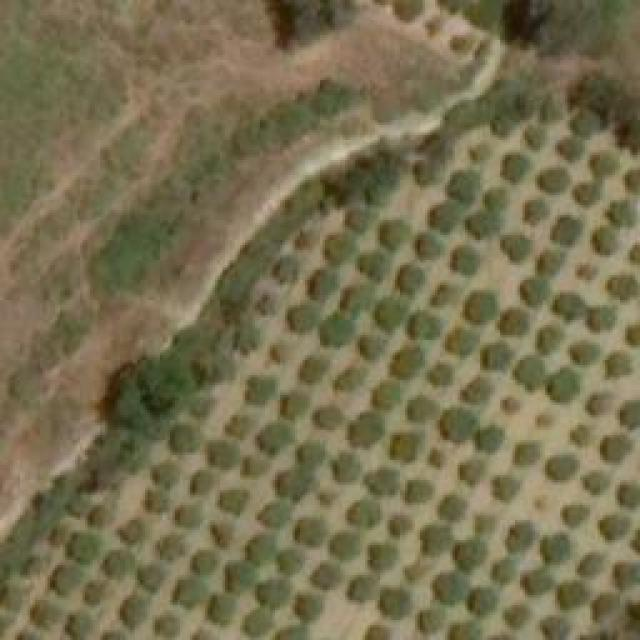Tree: (94, 364, 162, 436), (258, 0, 353, 48), (508, 0, 581, 55), (142, 346, 198, 409), (315, 71, 358, 119), (406, 152, 447, 190), (345, 413, 385, 448), (385, 430, 423, 460), (255, 425, 293, 453), (362, 467, 400, 495), (275, 470, 310, 500), (540, 89, 568, 125), (443, 410, 476, 440), (295, 440, 325, 473), (345, 500, 380, 528), (448, 29, 480, 59), (320, 317, 353, 345), (205, 440, 238, 468), (170, 422, 203, 450), (243, 375, 276, 403), (465, 293, 495, 323), (330, 453, 360, 483), (100, 550, 138, 573), (515, 358, 543, 388), (455, 540, 485, 568), (435, 575, 465, 603), (380, 220, 408, 250), (30, 600, 60, 628), (63, 612, 93, 640), (50, 567, 80, 595), (343, 285, 376, 310), (298, 358, 331, 383), (258, 503, 291, 528), (547, 370, 575, 398), (360, 252, 388, 280), (72, 532, 100, 560), (157, 532, 185, 560), (218, 490, 251, 513), (223, 415, 256, 438), (600, 435, 630, 460), (548, 455, 578, 480), (420, 528, 450, 553), (448, 175, 478, 200), (448, 328, 478, 353), (393, 348, 423, 373), (378, 300, 403, 330), (325, 235, 355, 260), (258, 583, 288, 608), (330, 533, 360, 558), (123, 598, 148, 628), (403, 478, 433, 503), (552, 293, 580, 318), (520, 280, 548, 305), (477, 428, 505, 453), (508, 522, 533, 550), (545, 535, 570, 563), (590, 595, 618, 620), (557, 583, 585, 608), (572, 110, 600, 135), (502, 153, 530, 178), (500, 235, 528, 260), (432, 203, 460, 228), (410, 310, 438, 335), (350, 575, 378, 600), (295, 520, 323, 545), (225, 565, 253, 590), (277, 393, 305, 418), (187, 393, 215, 418), (550, 218, 580, 241), (483, 345, 513, 368), (408, 398, 438, 421), (310, 405, 340, 428), (610, 275, 638, 298), (497, 310, 525, 333), (600, 515, 628, 538), (492, 475, 520, 498), (400, 265, 423, 293), (310, 270, 333, 298), (287, 305, 315, 328), (312, 565, 340, 588), (142, 490, 170, 513), (470, 3, 498, 26), (615, 563, 640, 588), (375, 383, 400, 408), (208, 595, 233, 620), (383, 590, 408, 615), (370, 543, 395, 568), (178, 578, 203, 603), (0, 588, 25, 613), (523, 570, 553, 590), (468, 215, 498, 235), (392, 0, 419, 22), (493, 558, 516, 583), (593, 153, 618, 176), (525, 198, 548, 223), (235, 328, 260, 351), (278, 550, 303, 573), (250, 535, 273, 560), (83, 583, 108, 606), (138, 568, 163, 591), (210, 523, 233, 548), (120, 520, 145, 543), (587, 308, 615, 328), (337, 368, 365, 388), (295, 598, 323, 618), (175, 505, 203, 525), (538, 328, 561, 351), (610, 203, 633, 226), (515, 443, 538, 466), (20, 555, 43, 578), (190, 473, 213, 496), (468, 142, 492, 164), (427, 445, 447, 471), (537, 255, 565, 273), (557, 140, 585, 158), (537, 170, 565, 188), (595, 228, 615, 253), (583, 473, 608, 493), (578, 555, 603, 575), (543, 618, 568, 638), (483, 190, 508, 210), (418, 235, 443, 255), (433, 285, 458, 305), (428, 363, 453, 383), (360, 335, 385, 355), (350, 210, 375, 230), (243, 613, 268, 633), (88, 503, 108, 528), (153, 465, 178, 485), (243, 455, 268, 475), (388, 515, 413, 535), (578, 260, 600, 282), (623, 168, 640, 196), (608, 353, 631, 373), (620, 483, 640, 506), (573, 425, 593, 448), (463, 463, 486, 483), (505, 605, 528, 625), (473, 590, 496, 610), (525, 125, 545, 148), (493, 115, 516, 135), (453, 248, 476, 268), (468, 380, 491, 400), (278, 258, 298, 281), (193, 553, 216, 573), (48, 525, 68, 548), (278, 623, 305, 640), (573, 342, 598, 360), (563, 505, 588, 523), (450, 625, 480, 640), (573, 185, 598, 203), (363, 625, 393, 640), (295, 230, 318, 248), (403, 560, 426, 578), (155, 617, 178, 635), (443, 498, 463, 518), (475, 515, 493, 535), (255, 295, 275, 313), (270, 342, 290, 360), (420, 608, 438, 628), (625, 403, 640, 426), (535, 411, 555, 428), (625, 243, 639, 267), (625, 325, 640, 345), (500, 398, 520, 413), (590, 395, 605, 410)
